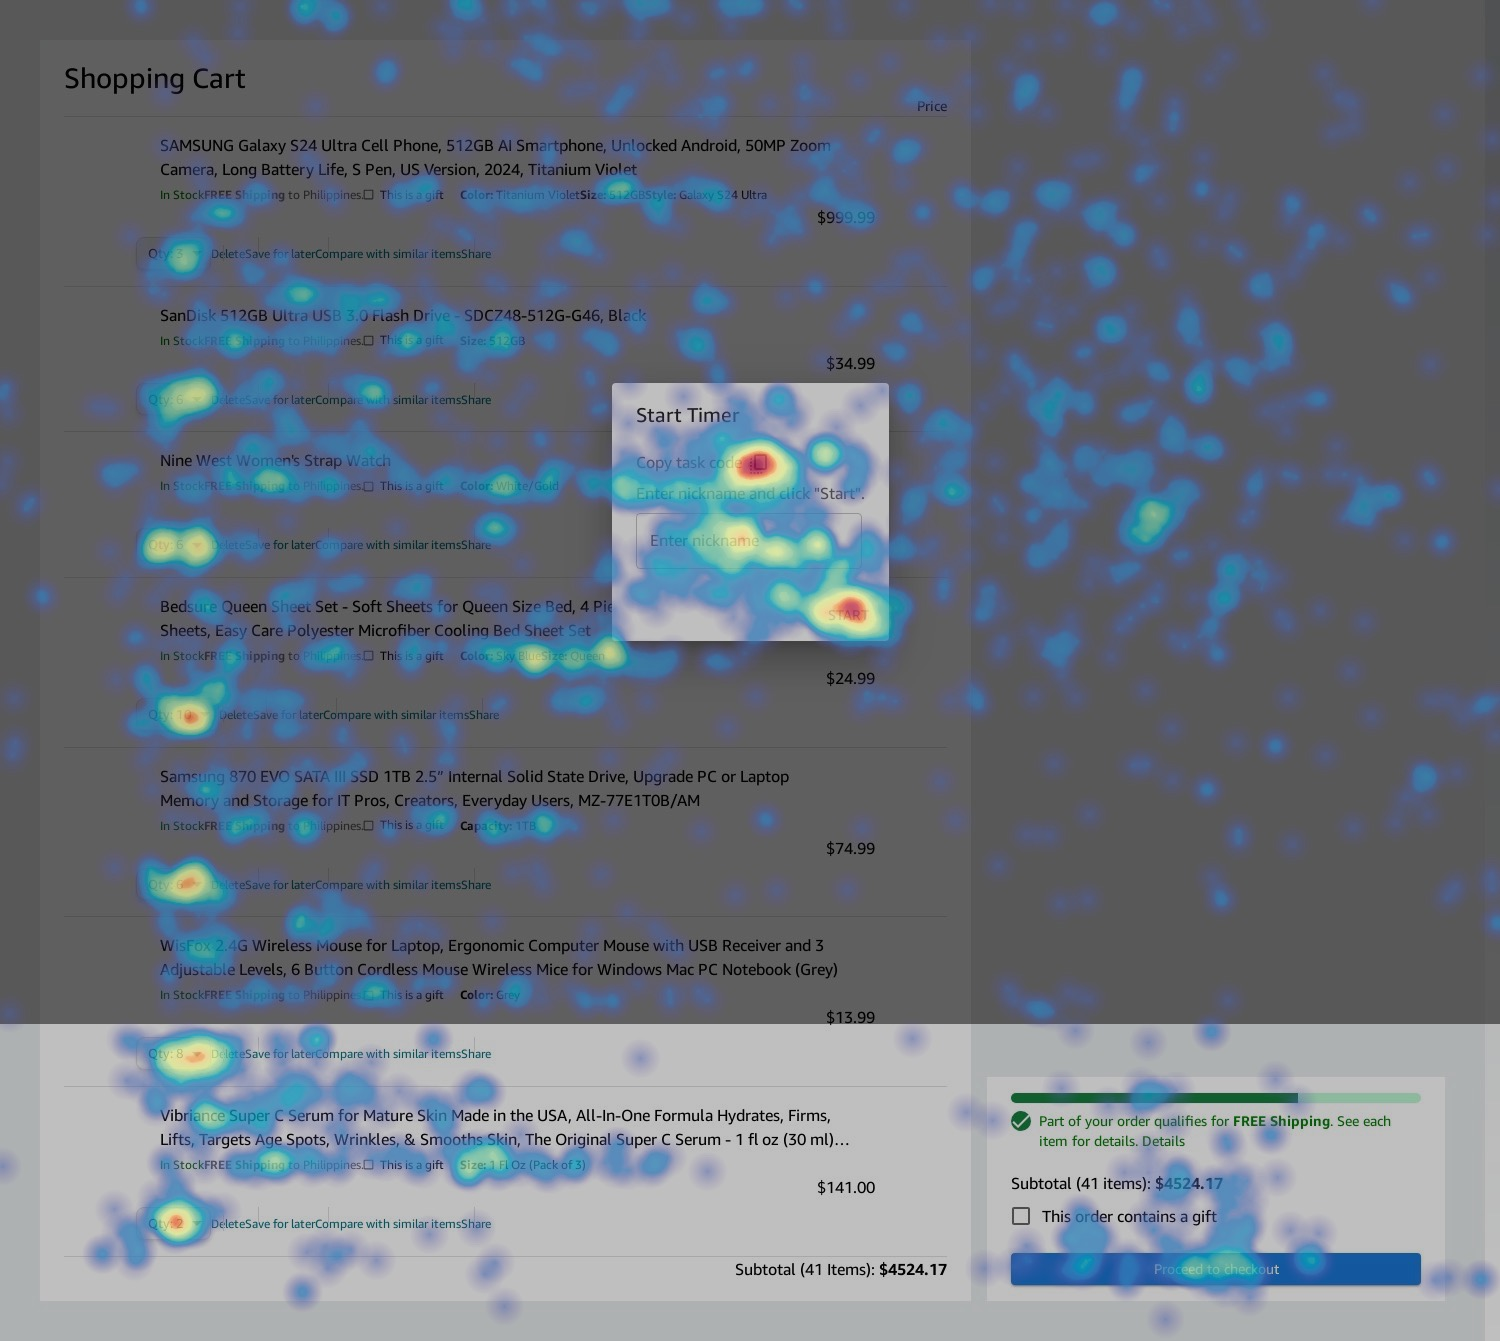checkout: (1012, 1253, 1422, 1289)
nickname: (637, 516, 862, 567)
qty: (138, 698, 216, 733), (142, 1036, 220, 1070), (142, 865, 219, 900), (135, 237, 212, 271), (140, 527, 217, 560), (135, 1206, 212, 1240), (138, 382, 215, 416)
start: (808, 595, 885, 630)
task_code: (736, 445, 782, 482)
